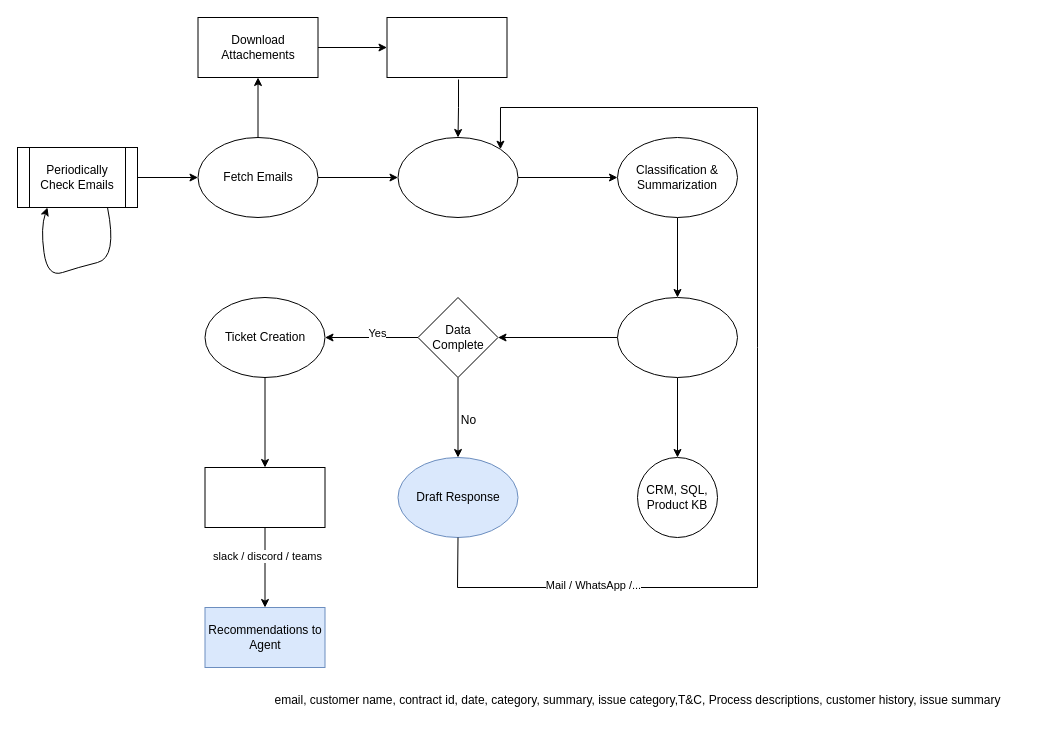
Image size: 1040x733. Some labels were removed from this diagram. Here are the shapes that lost their labels. From the top down, the centre of each, then its label:
At (x=446, y=47): "Extract Text and Images from PDF".
At (x=457, y=177): "Entity Recognition".
At (x=677, y=337): "Data Enrichment".
At (x=264, y=497): "Fetch Relevant historical data & BP".
